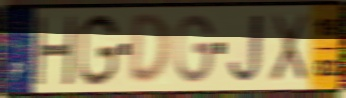D: (127, 12, 173, 88)
G: (77, 12, 120, 89), (174, 13, 216, 86)
H: (32, 14, 77, 87)
J: (226, 12, 265, 85)
X: (268, 11, 310, 85)
